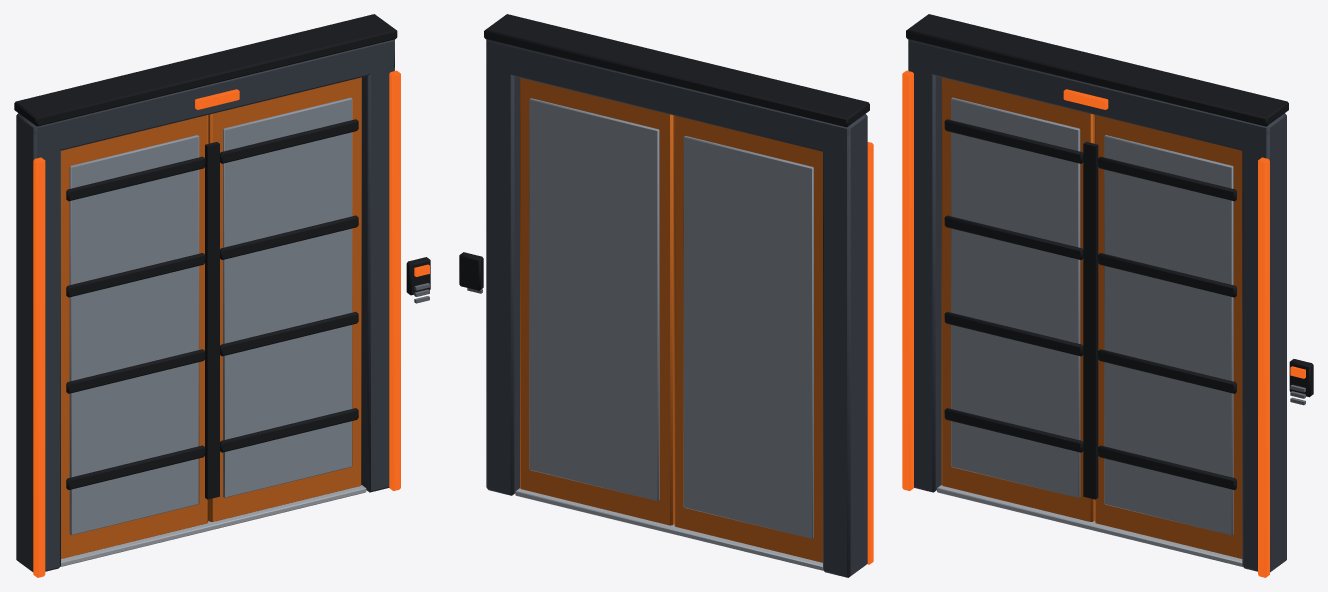
Rendered from door_engineering.glb.
3 renders of one model, left to right at view 1: azimuth 30°, elevation 25°; view 2: azimuth 150°, elevation 25°; view 3: azimuth 330°, elevation 25°, orthographic.
Visible parts, largest first — view 1: leaf_l, body, leaf_r; view 2: leaf_r, body, leaf_l; view 3: leaf_r, body, leaf_l.
Boxes of the visible parts, left/top/right/bottom form: leaf_l: left=61, top=115, right=213, bottom=558; body: left=14, top=14, right=430, bottom=577; leaf_r: left=208, top=77, right=361, bottom=521; leaf_r: left=520, top=78, right=674, bottom=525; body: left=459, top=14, right=873, bottom=577; leaf_l: left=674, top=115, right=822, bottom=562; leaf_r: left=1089, top=115, right=1242, bottom=558; body: left=902, top=14, right=1313, bottom=577; leaf_l: left=941, top=77, right=1094, bottom=521.
Bounding box in the file's own units: 2.62 × 2.86 × 0.285.
